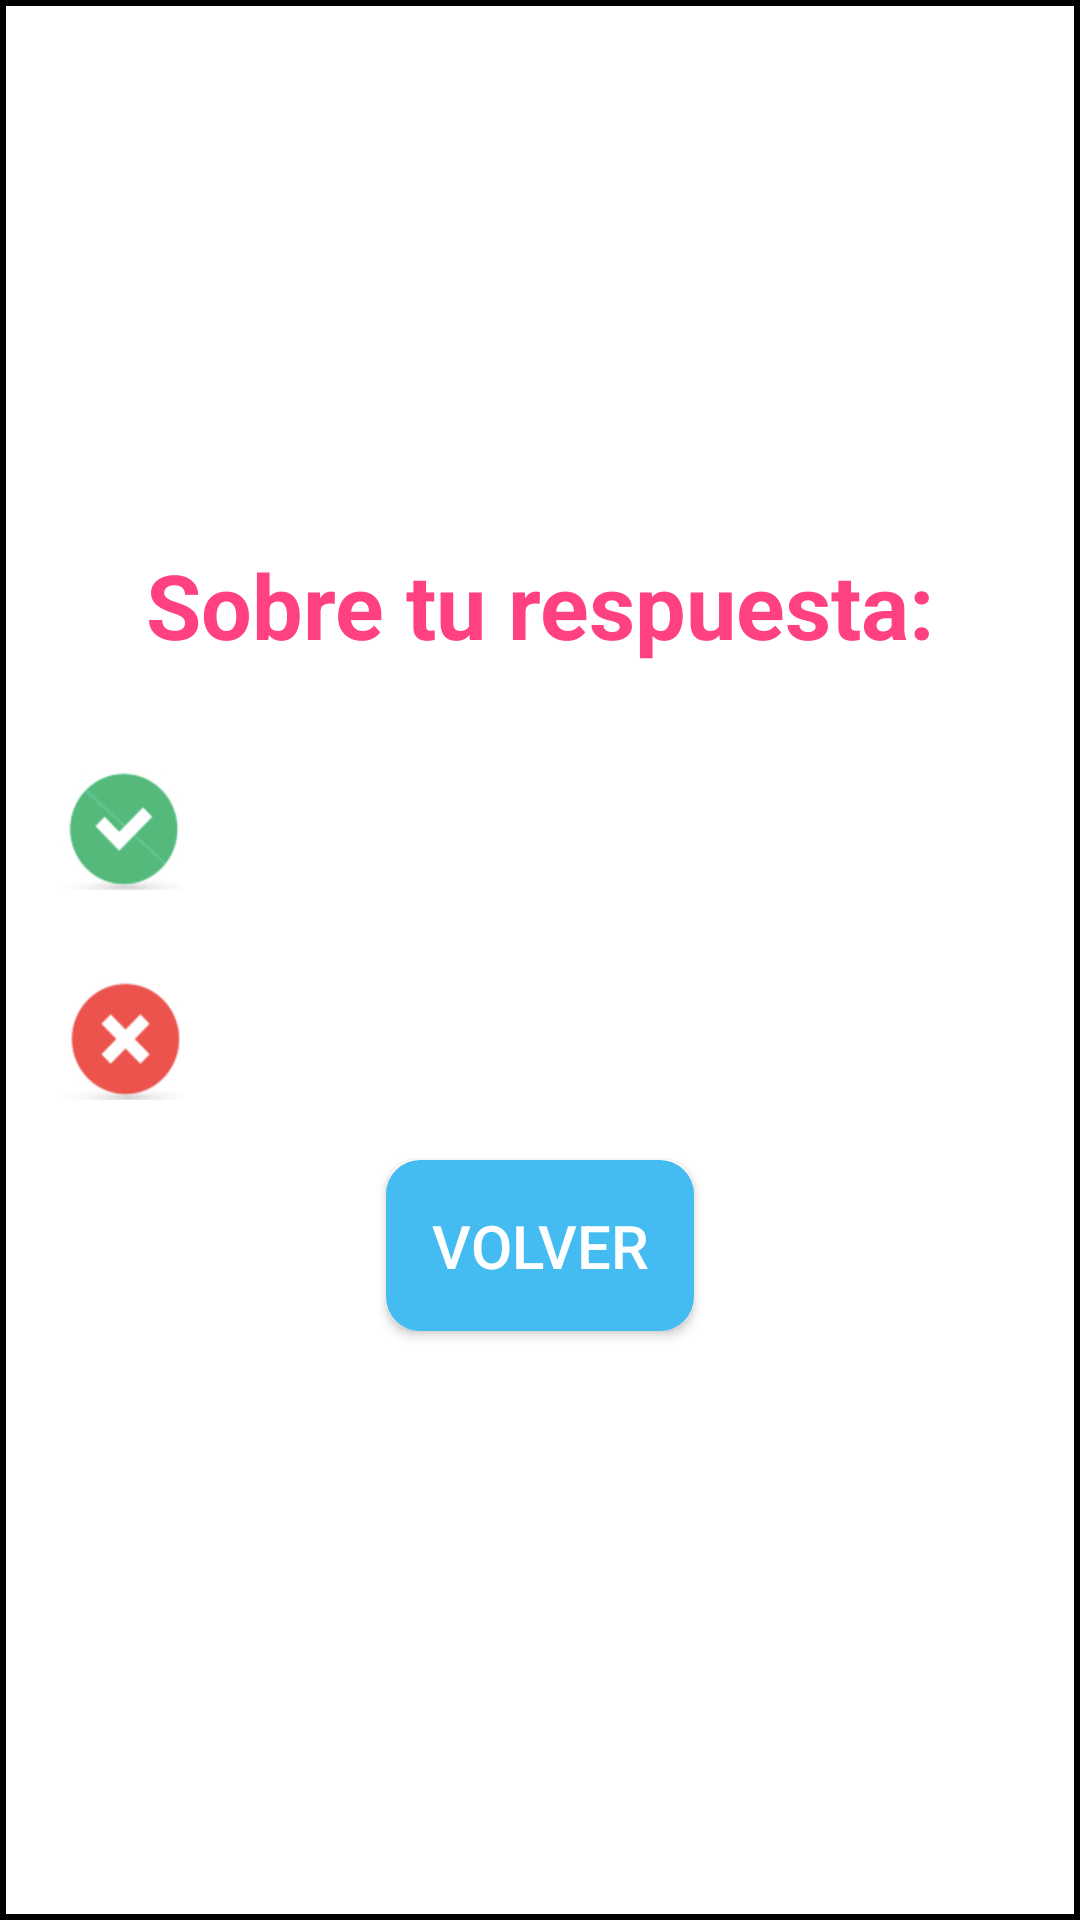

Where to tap for icons on this 1080×1920 app screen, as point (x, y):
solved right: point (123, 831)
solved wrong: point (125, 1041)
